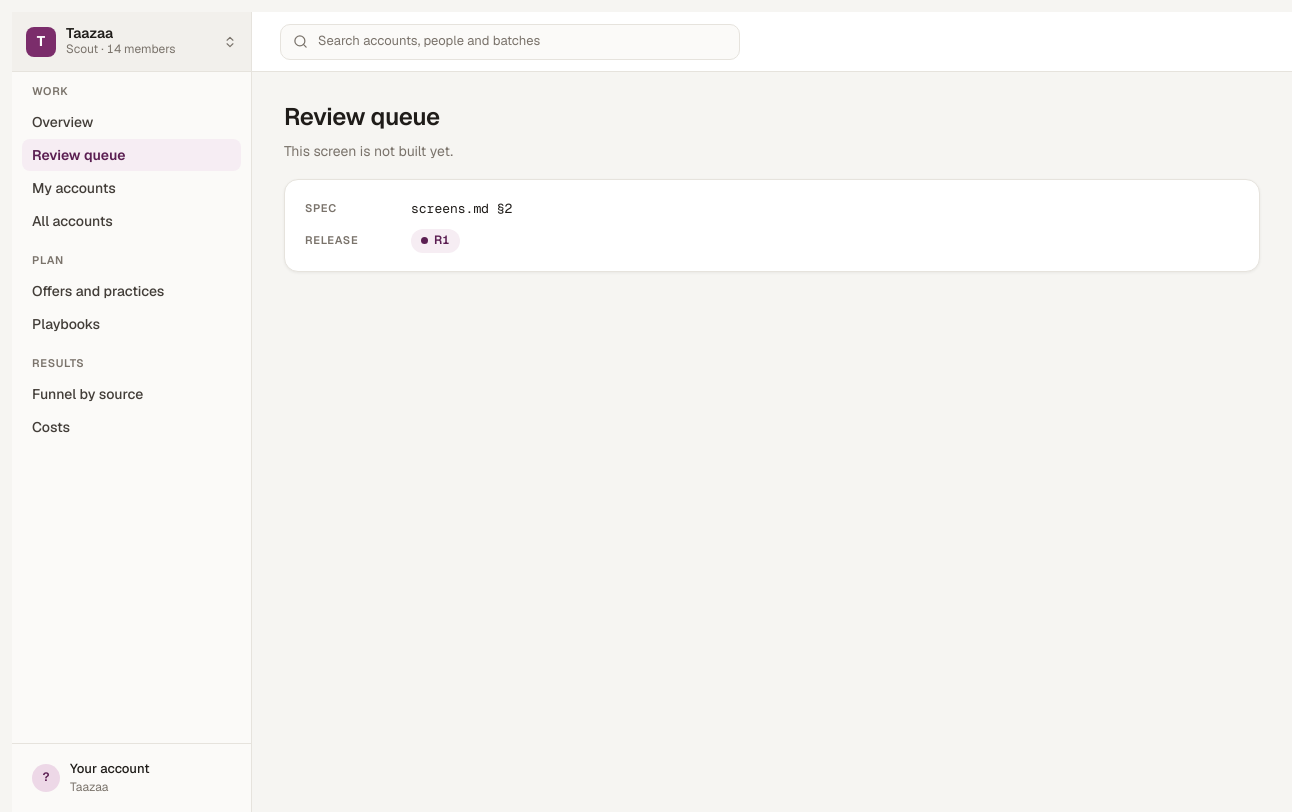
Test case: workspace switcher › switches the /t/:tenant segment and clears the query cache
The width and height of the screenshot is (1292, 812).
Expected: the heading "Review queue" is shown, [284,101,440,132]
Expected: the text "Scout · 14 members" is shown, [66,41,176,57]
Step 1. Click the button named "Switch workspace" → (132, 42), box [12,12,251,72]
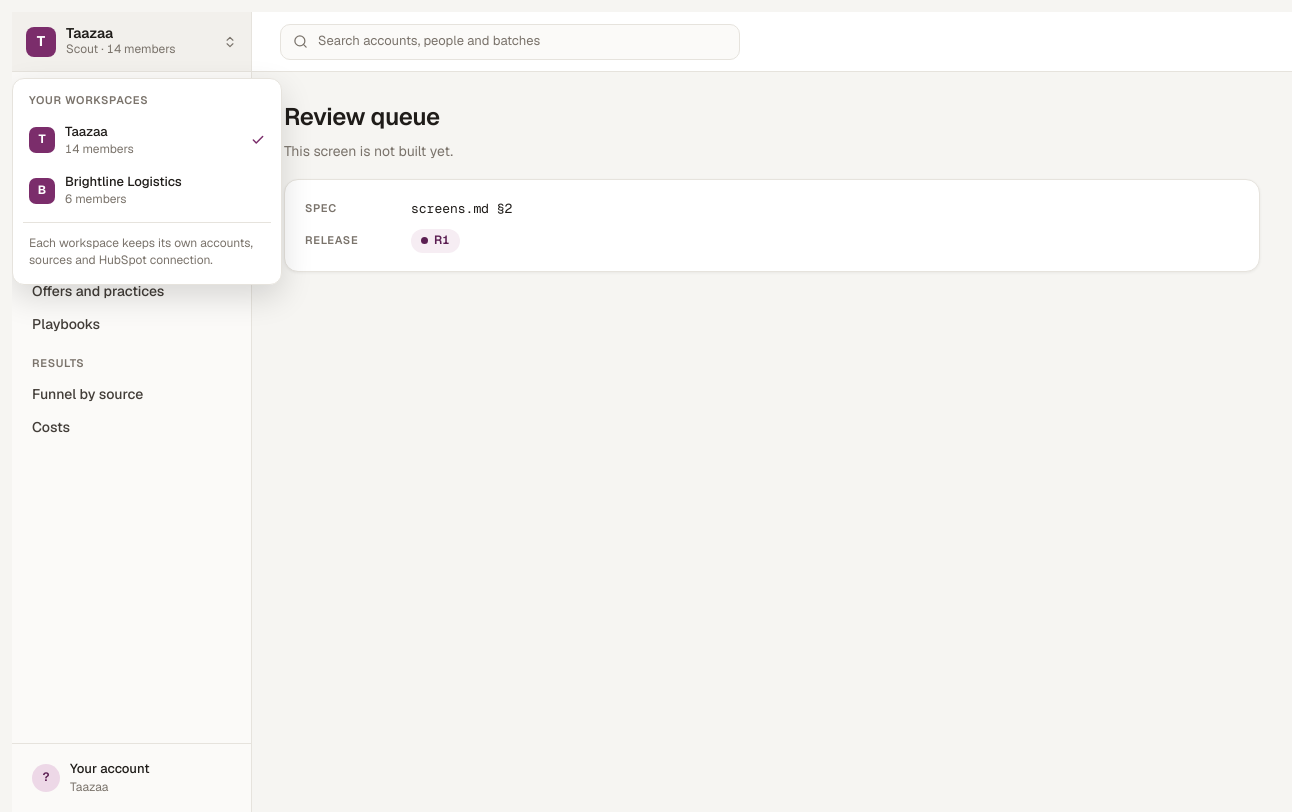
Step 2. Click the menu item "B Brightline Logistics 6 members" → (105, 190), box [29,173,182,207]
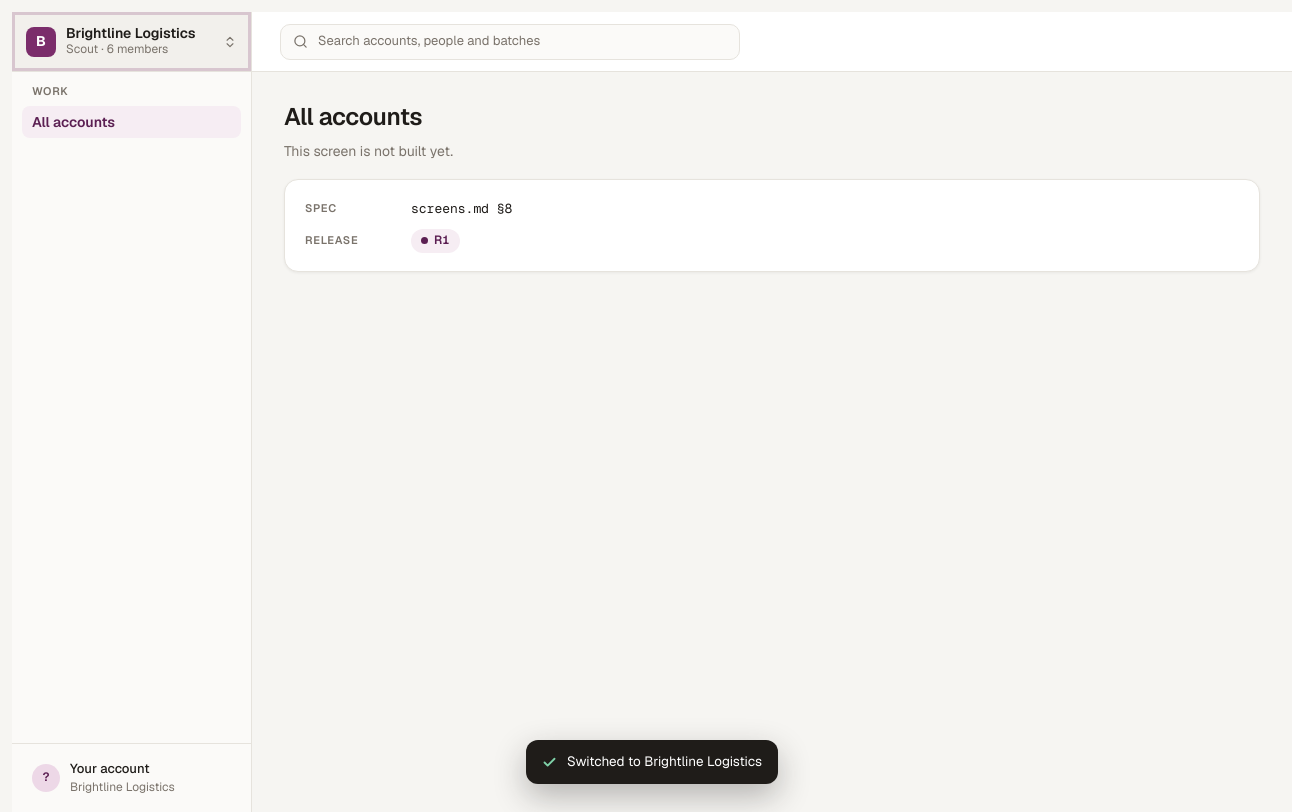
Expected: the heading "All accounts" is shown, [284,101,422,132]
Expected: the message reads "Switched to Brightline Logistics", [567,752,762,770]
